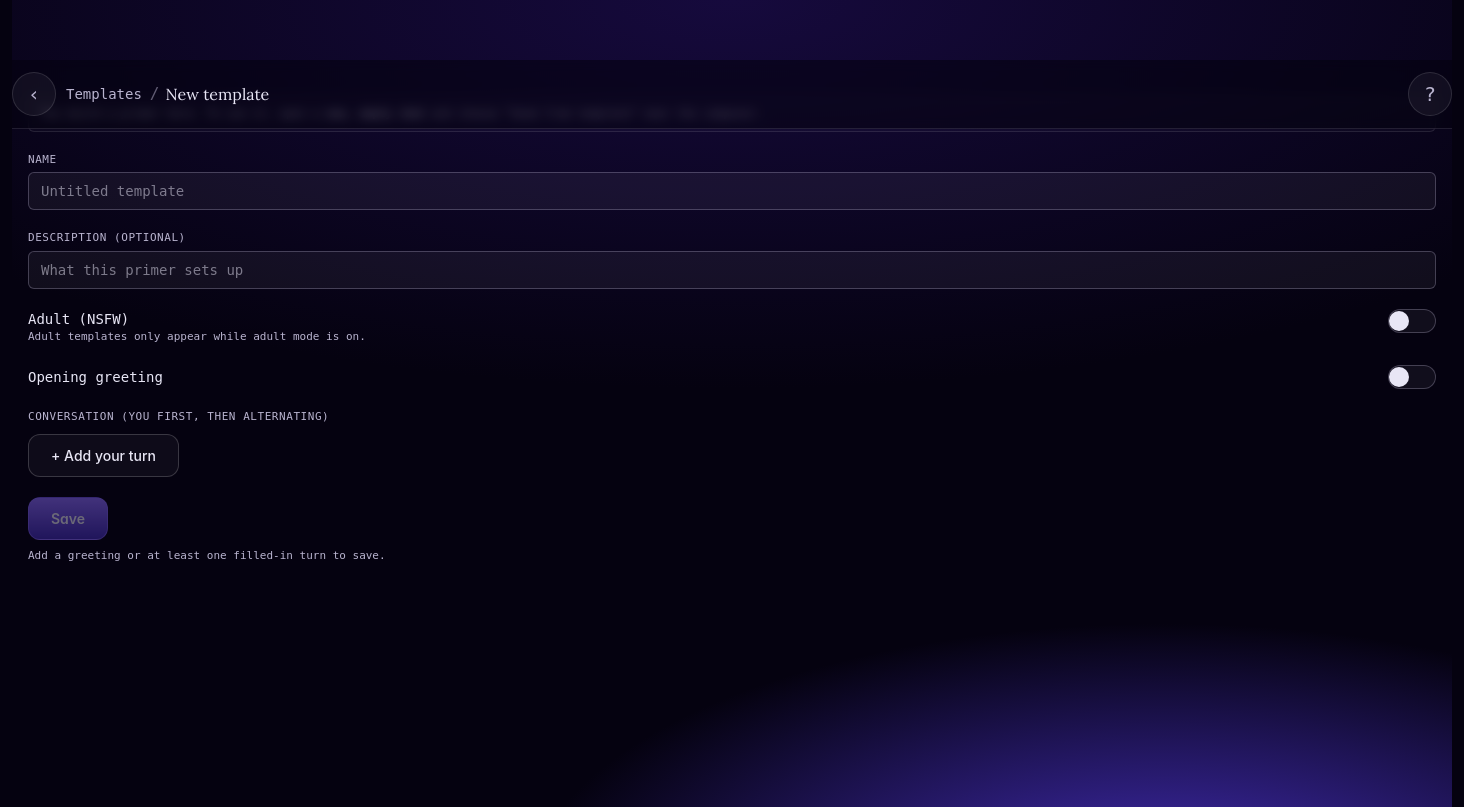
Scenario: TreasuryTemplatePage — create mode › appends turns whose labels alternate you → persona
What coordinates should you click on to do the following:
click the button "+ Add your turn"
I would click on:
 (104, 455)
Its box is [28,434,179,476].
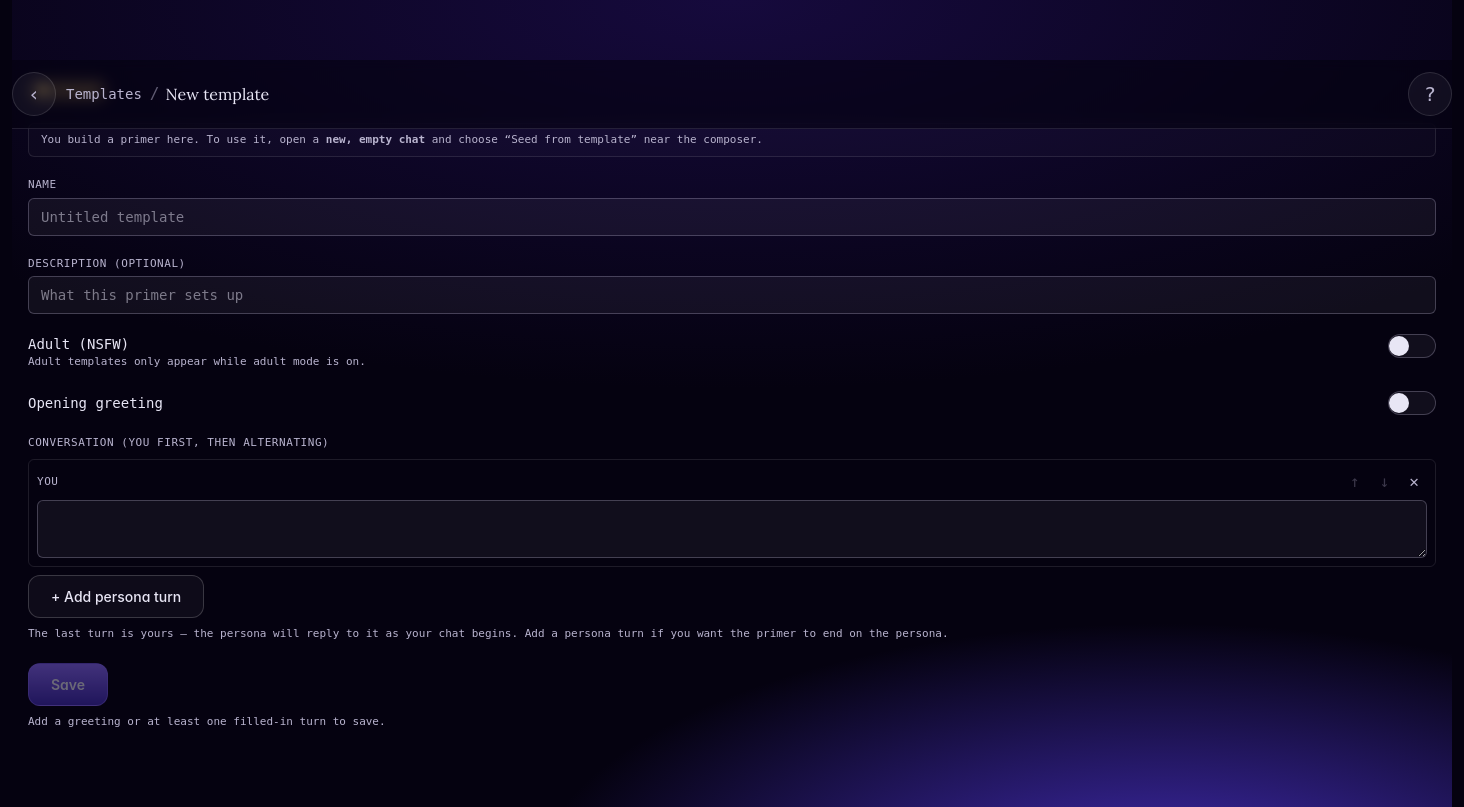
Now the text box named "you turn 1" is shown, box [37,500,1427,558]
Note: The add button now offers a persona turn next.
What coordinates should you click on to do the following:
click the button "+ Add persona turn"
I would click on:
 (116, 596)
Its box is [28,575,204,618].
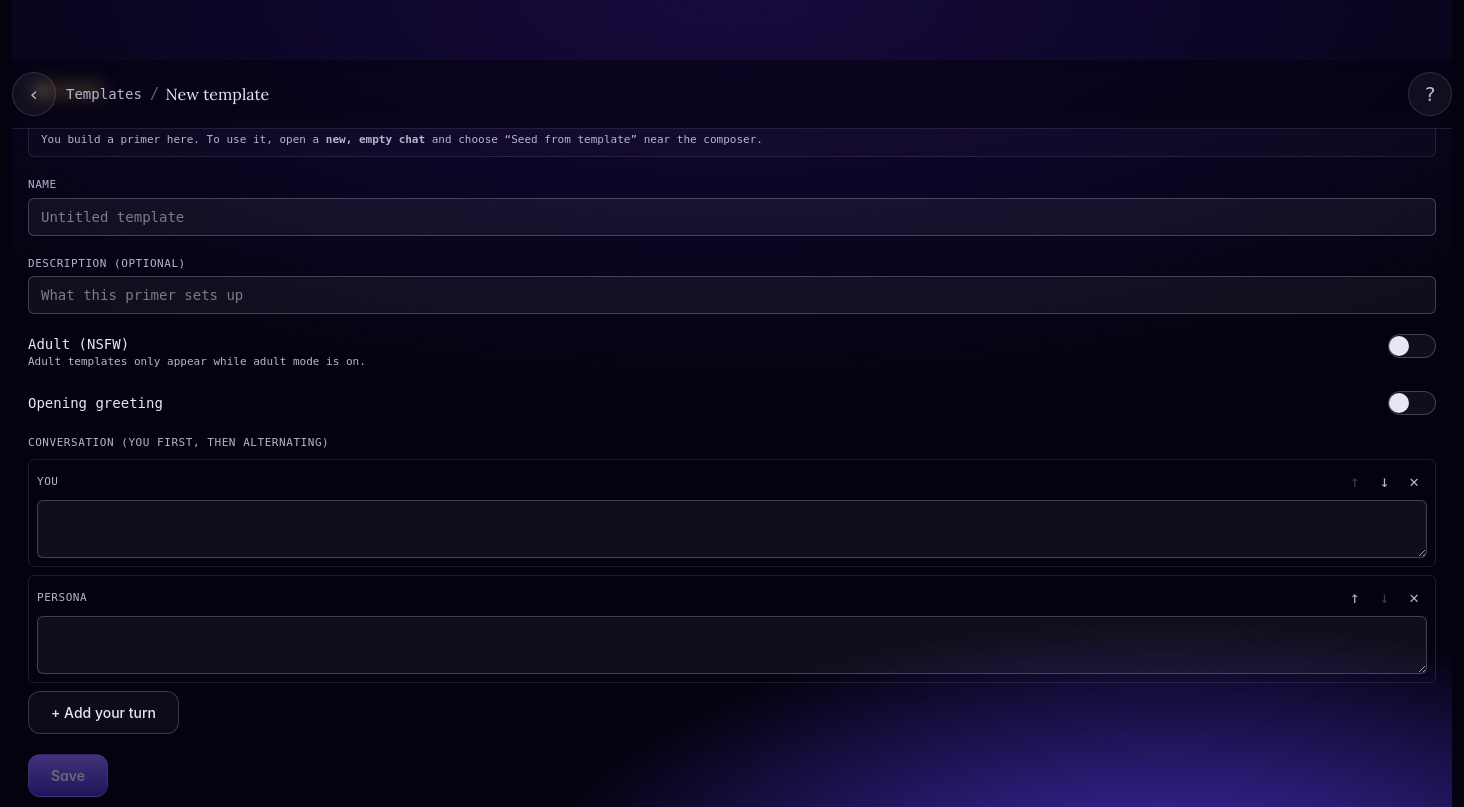
Now the text box named "persona turn 2" is shown, box [37,616,1427,674]
